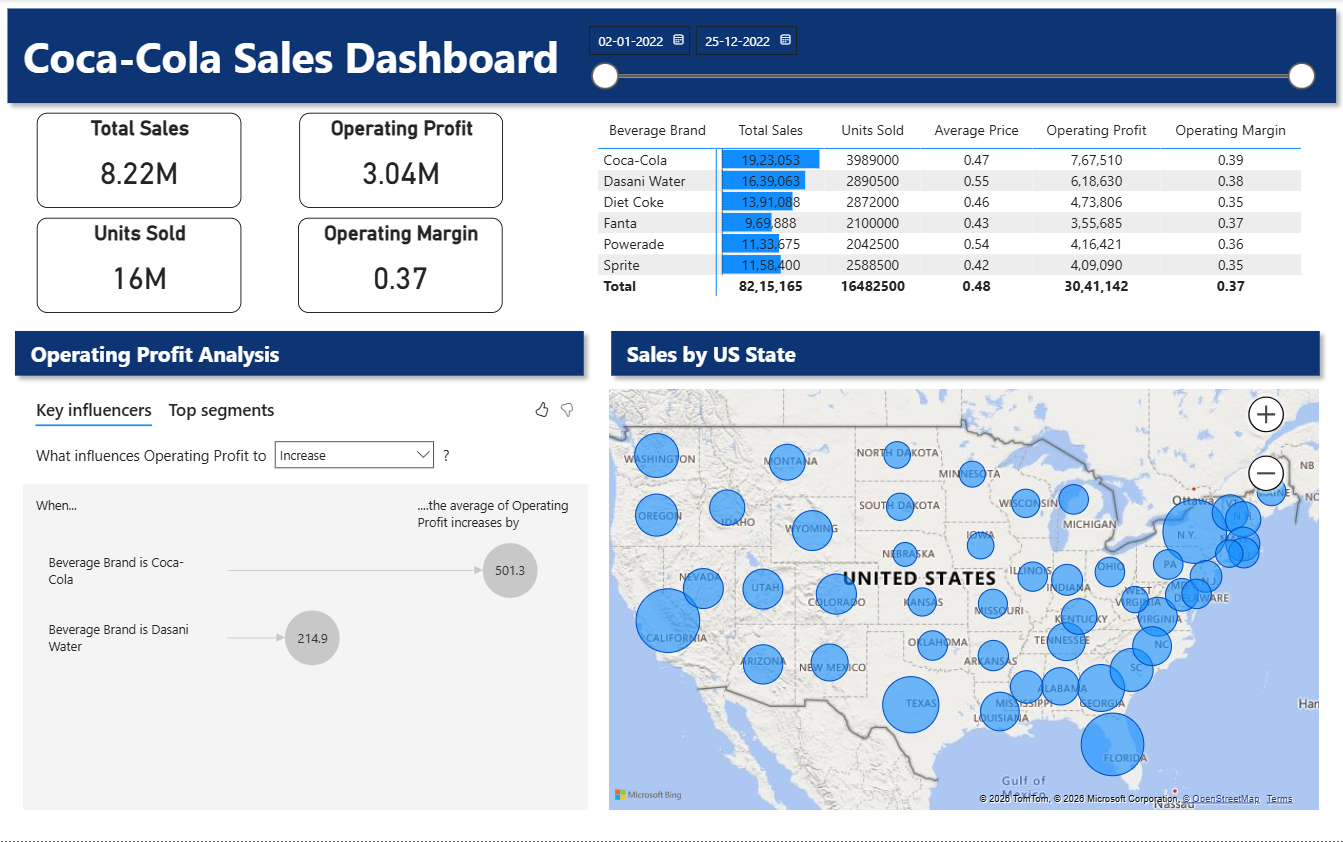

What the dashboard file says about the page in this screenshot:
{"tool":"powerbi","page":{"name":"Page 1","canvas":[1280,800],"ordinal":0},"visuals":[{"type":"shape","box":[7.1,305.9,558.4,60.5],"z":0},{"type":"shape","box":[573.8,305.9,691.2,60.5],"z":1000},{"type":"shape","box":[0,0,1280.4,107.9],"z":2000},{"type":"keyDriversVisual","fields":{"Target":["Data.Operating Profit"],"ExplainBy":["Data.Beverage Brand"]},"box":[19,366.3,546.5,410.2],"z":3000},{"type":"map","fields":{"Size":["Sum(Data.Total Sales)"],"Category":["Data.State"]},"box":[576.2,366.3,684.1,410.2],"z":4000},{"type":"pivotTable","fields":{"Rows":["Data.Beverage Brand"],"Values":["Sum(Data.Total Sales)","Sum(Data.Units Sold)","Avg(Data.Price per Unit)","Sum(Data.Operating Profit)","Avg(Data.Operating Margin)"]},"box":[565.3,108.1,694.8,198.3],"z":5000},{"type":"slicer","fields":{"Values":["Data.Invoice Date"]},"box":[548.7,15.4,711.4,77.2],"z":6000},{"type":"card","title":"Total Sales","fields":{"Values":["Sum(Data.Total Sales)"]},"box":[36.8,108.1,194.8,90.3],"z":7000},{"type":"card","title":"Operating Profit","fields":{"Values":["Sum(Data.Operating Profit)"]},"box":[286.2,108.1,193.6,90.3],"z":8000},{"type":"card","title":"Units Sold","fields":{"Values":["Sum(Data.Units Sold)"]},"box":[36.8,207.8,194.8,90.3],"z":9000},{"type":"card","title":"Operating Margin","fields":{"Values":["Avg(Data.Operating Margin)"]},"box":[285,207.8,194.8,90.3],"z":10000}]}

Visuals, with their boxes in screenshot pixels (x1, y1, x2, y2), scaled from the page's 1280x800 canvas onto the 1343x842 screenshot:
shape: bbox=(7, 322, 593, 386)
shape: bbox=(602, 322, 1327, 386)
shape: bbox=(0, 0, 1342, 114)
keyDriversVisual - Data.Operating Profit x Data.Beverage Brand: bbox=(20, 386, 593, 817)
map - Sum(Data.Total Sales) x Data.State: bbox=(605, 386, 1322, 817)
pivotTable - Data.Beverage Brand x Sum(Data.Total Sales): bbox=(593, 114, 1322, 322)
slicer - Data.Invoice Date: bbox=(576, 16, 1322, 97)
"Total Sales" card: bbox=(39, 114, 243, 209)
"Operating Profit" card: bbox=(300, 114, 503, 209)
"Units Sold" card: bbox=(39, 219, 243, 314)
"Operating Margin" card: bbox=(299, 219, 503, 314)
